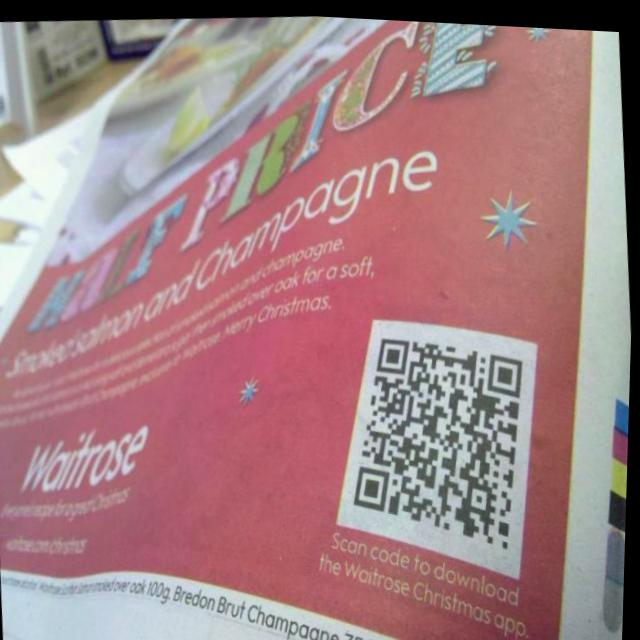qrcode: (344, 322, 538, 555)
